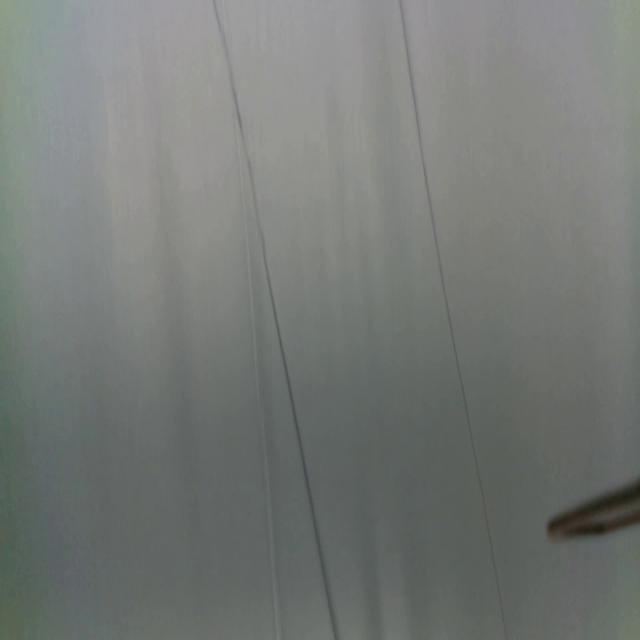crease: (213, 0, 338, 640), (401, 0, 508, 640), (234, 126, 283, 639)
